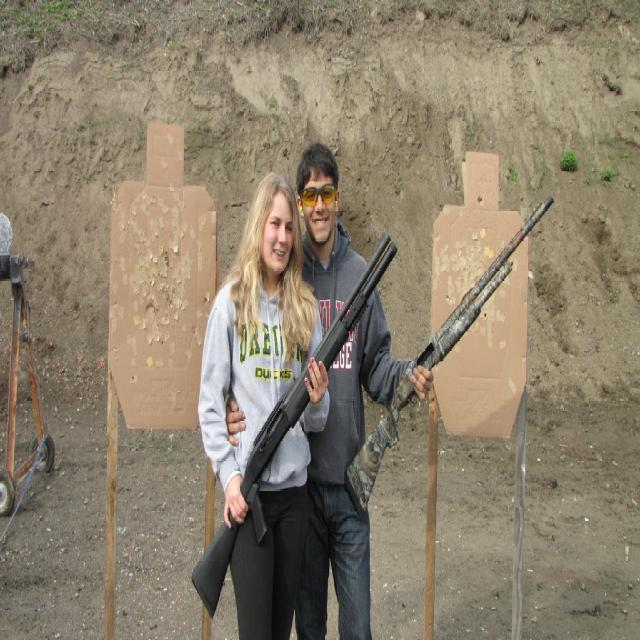weapon: (188, 236, 396, 602), (343, 198, 555, 526)
